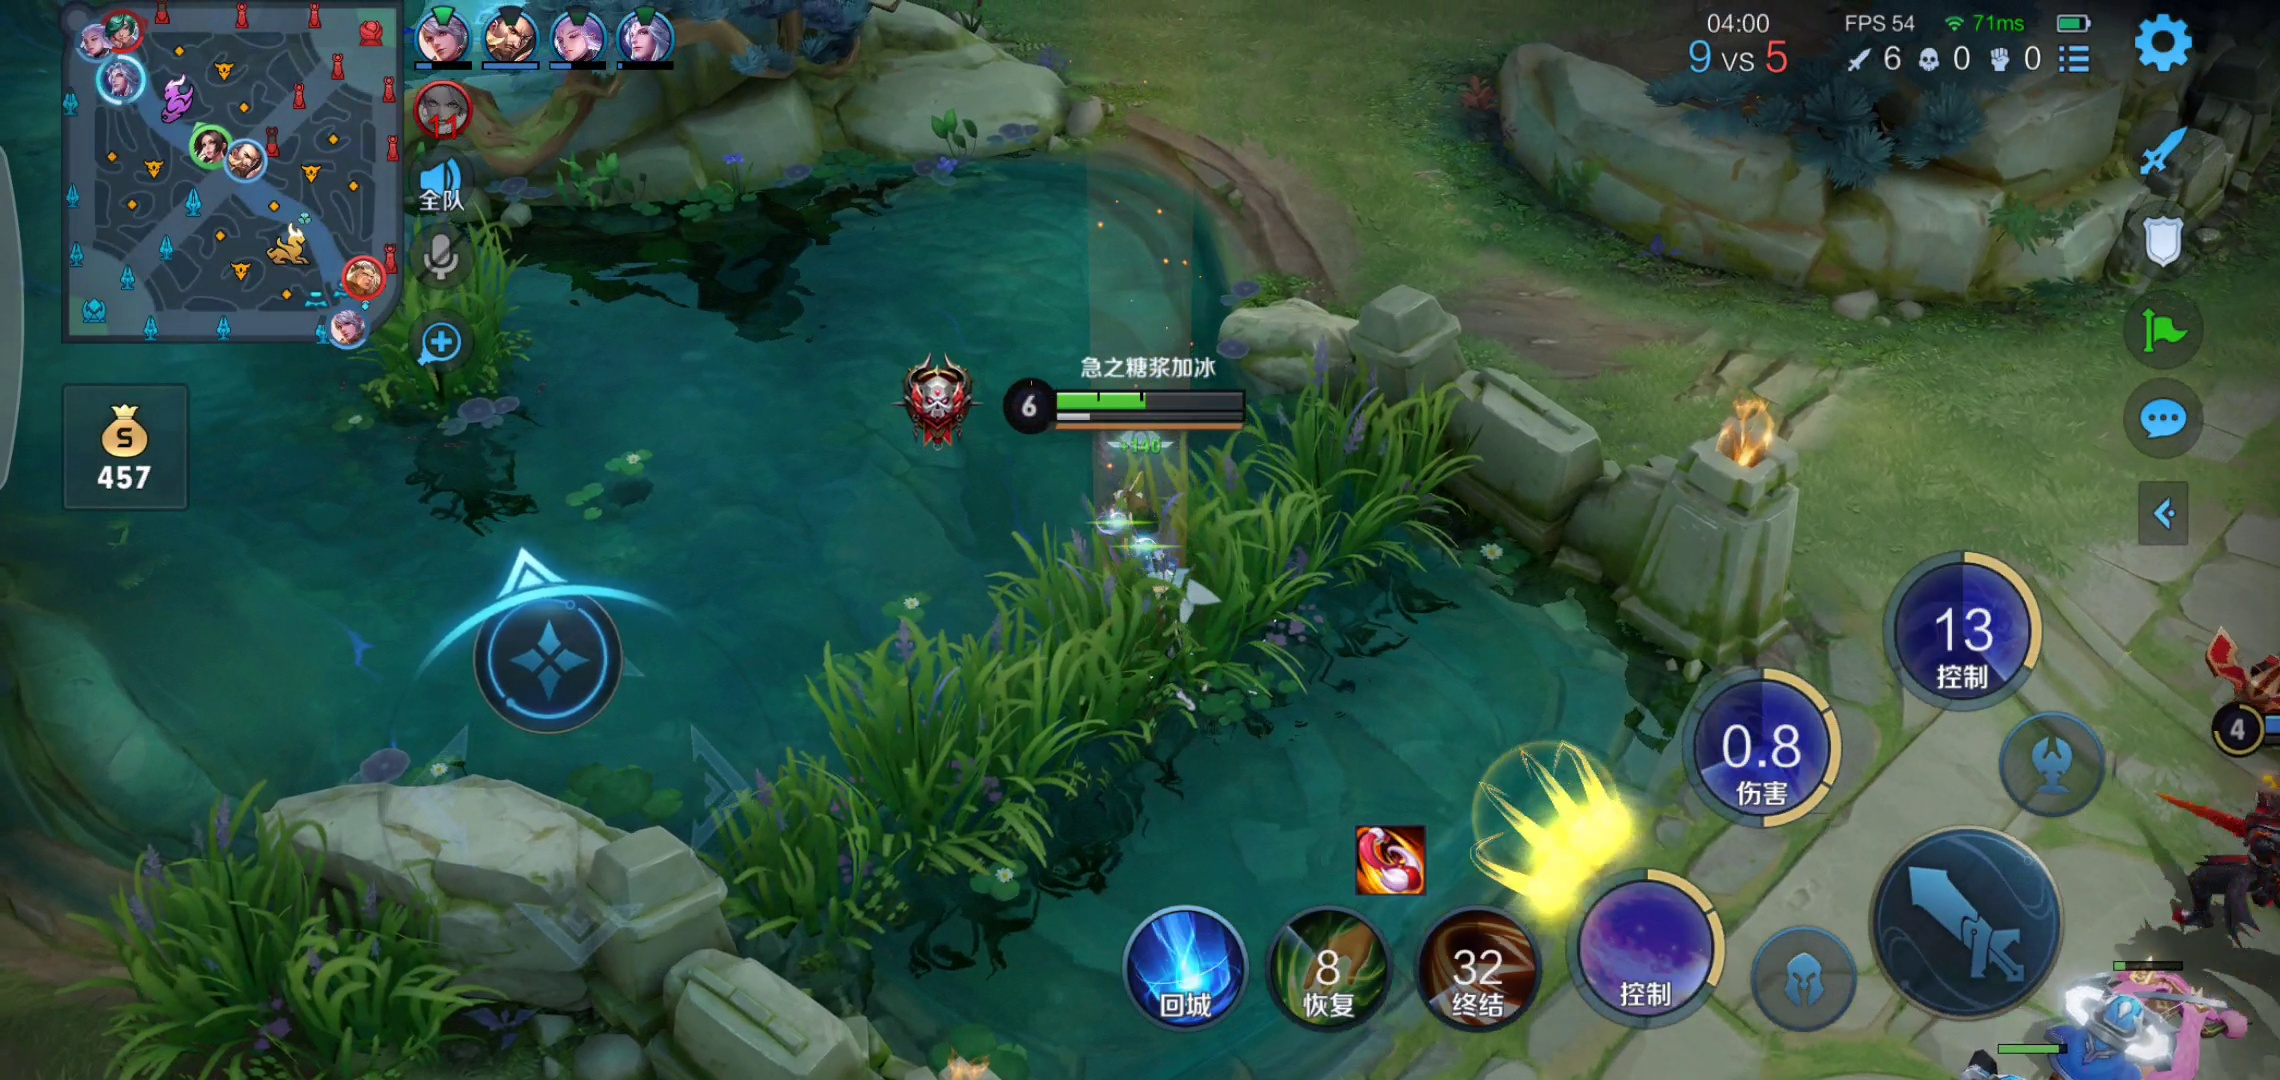grass: (665, 372, 1464, 948), (79, 820, 487, 1080), (342, 219, 553, 414)
hero: (1038, 471, 1245, 638), (2183, 759, 2279, 936)
soldier: (2055, 987, 2153, 1079)
